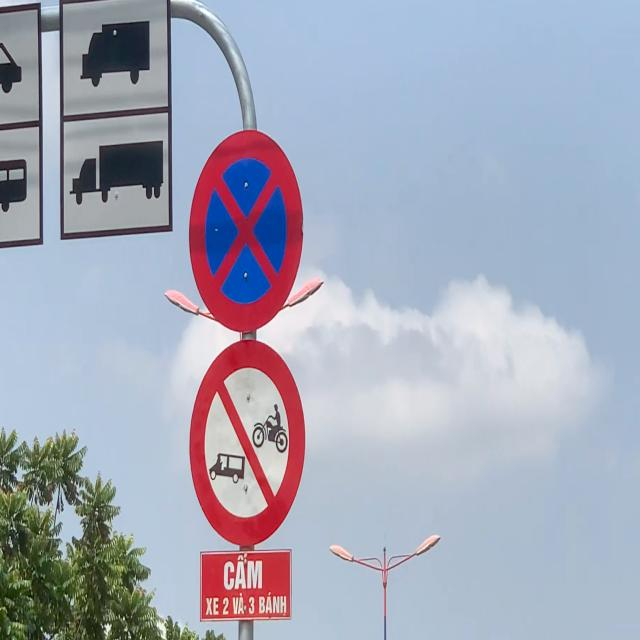Cam dung va do: (186, 126, 306, 337)
